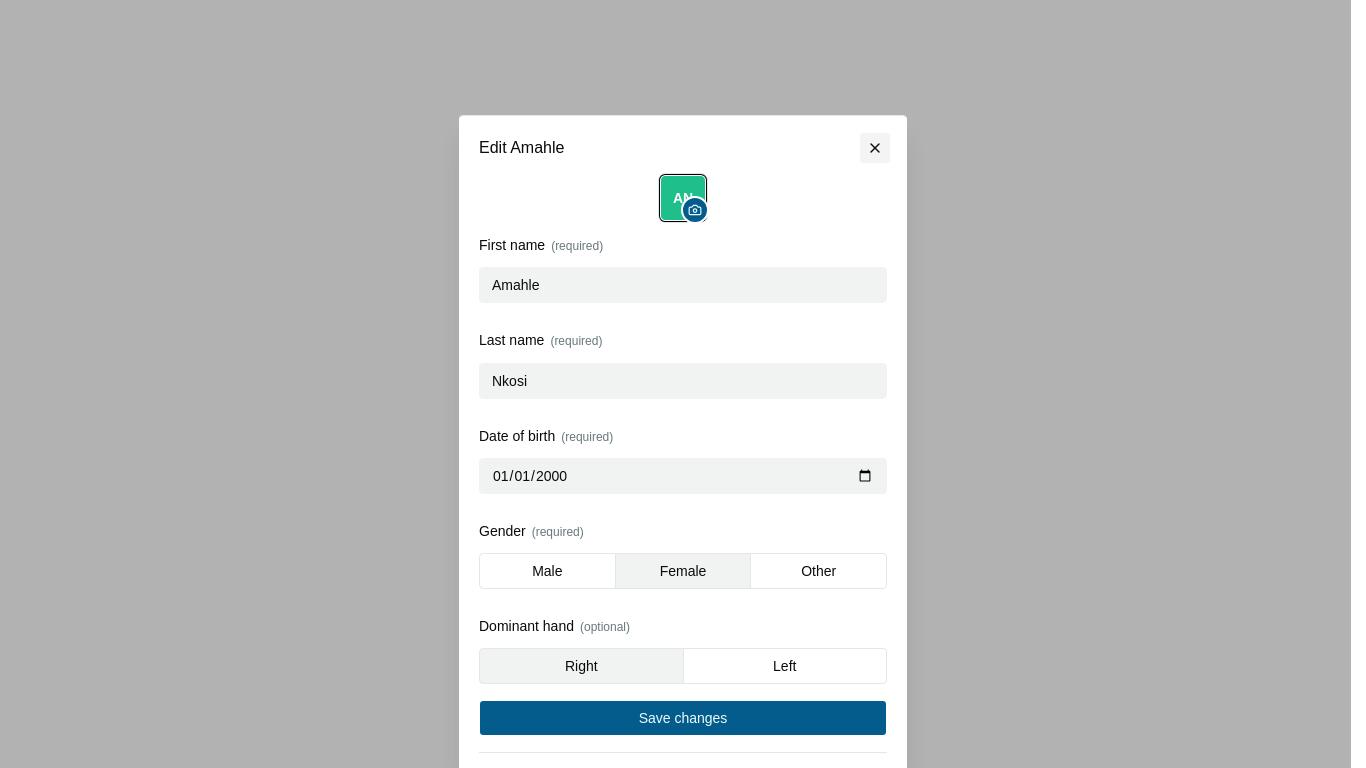
Test case: no Remove photo option when there is no photo to remove
The image size is (1366, 768).
Click the button with aria-label "Change Amahle's photo": (683,198) [661, 176, 705, 220]
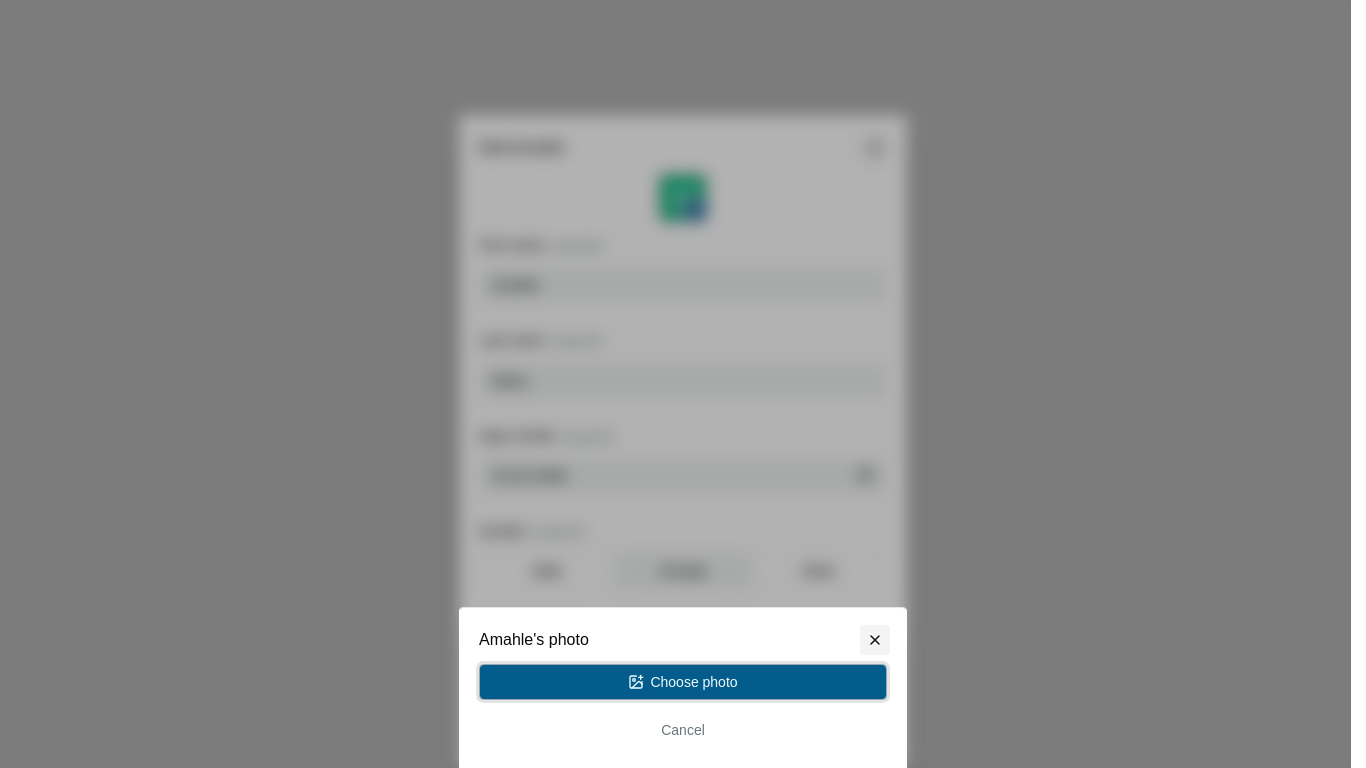
Expected: the button "Choose photo" is shown, [479, 664, 887, 700]
